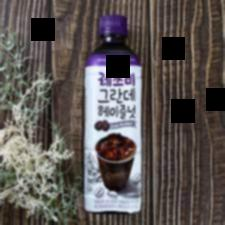letsbe_grande_hazelnut: (81, 13, 145, 215)
